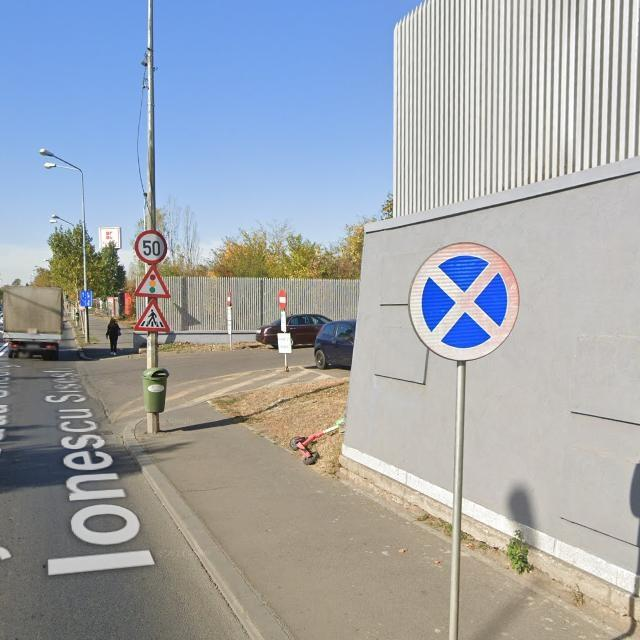forb_speed_over_50: (135, 230, 167, 265)
forb_waiting: (409, 241, 522, 362), (278, 289, 287, 310)
warn_crosswalk: (134, 299, 170, 332)
